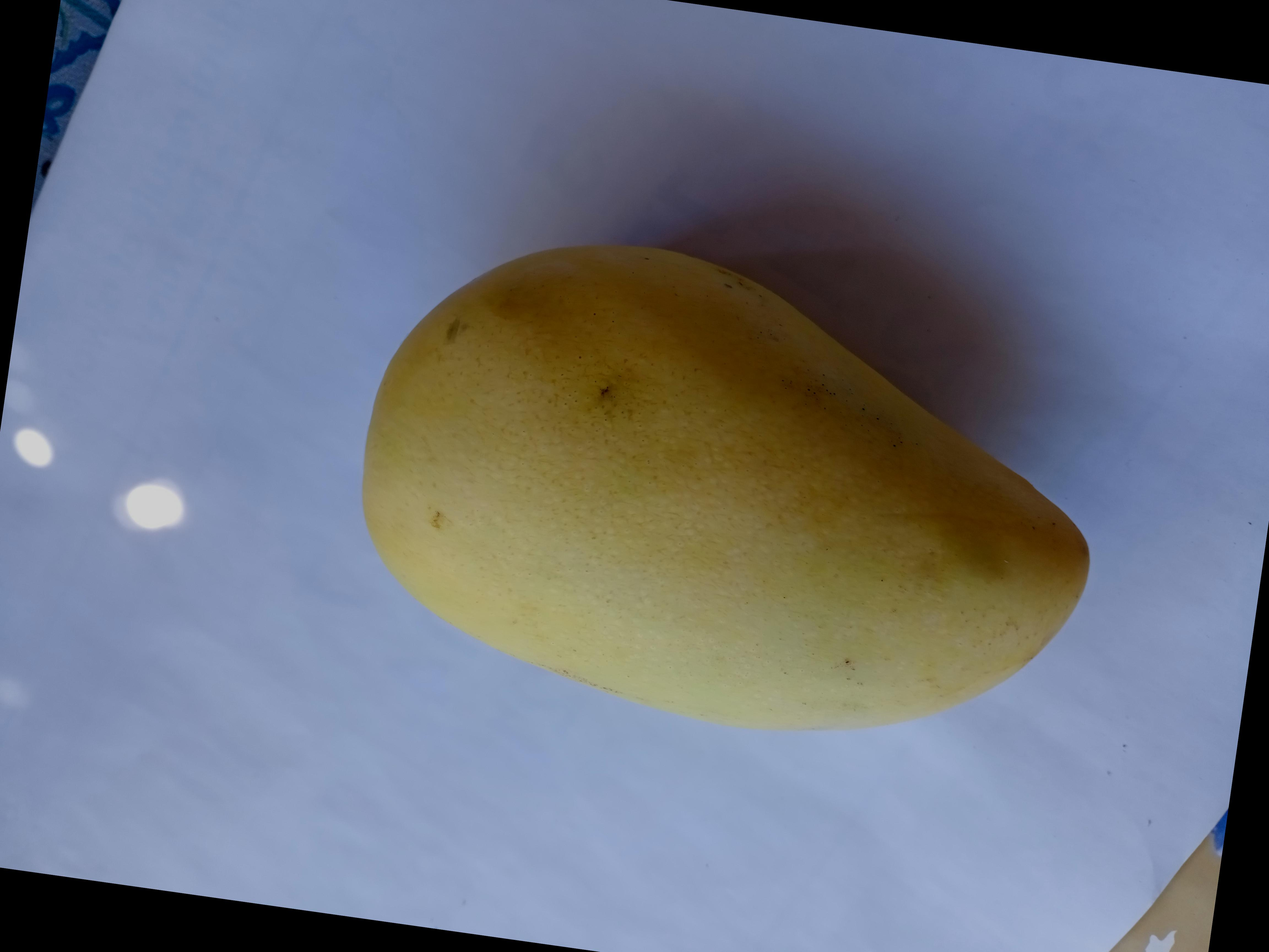Mango Ripe: (387, 73, 1269, 686)
